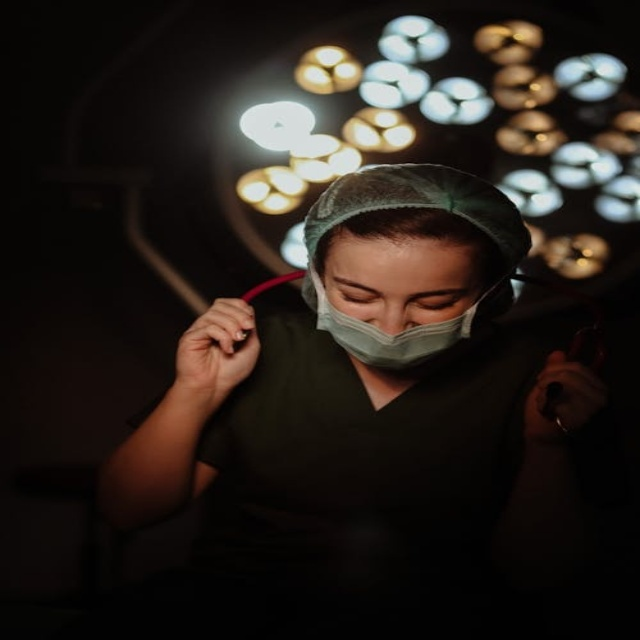Mascara: (311, 269, 494, 371)
Sin_gafas: (335, 279, 467, 318)
Sin_guantes: (159, 290, 269, 393), (528, 346, 610, 439)
